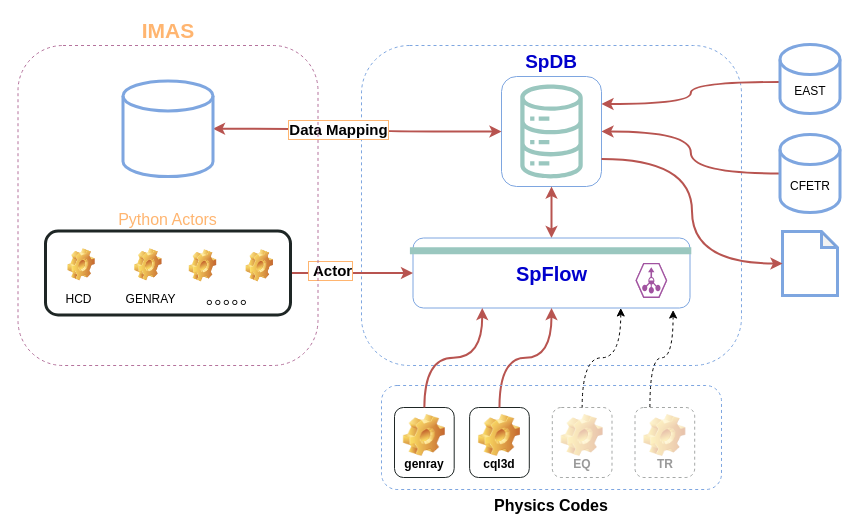
Image size: 858x532. Some labels were removed from this diagram. Each missing label, with the centre of its shape:
"Files" belongs at pixel 809 263.
"IDS" belongs at pixel 167 128.
